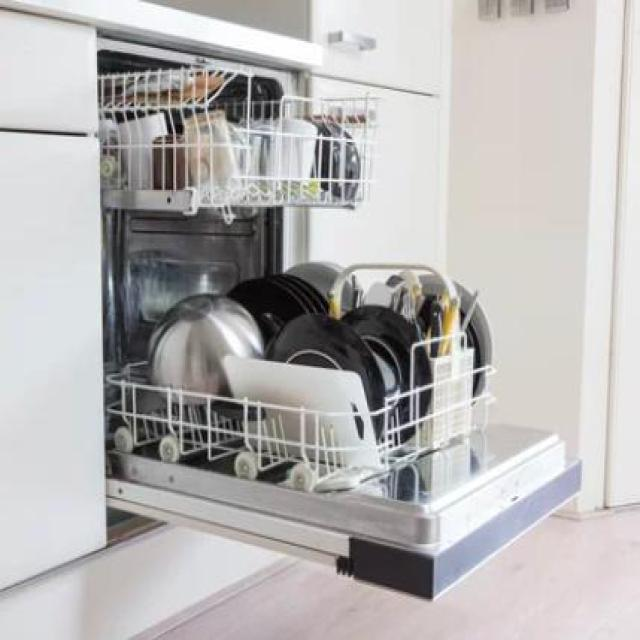dishwasher: (85, 21, 589, 606)
